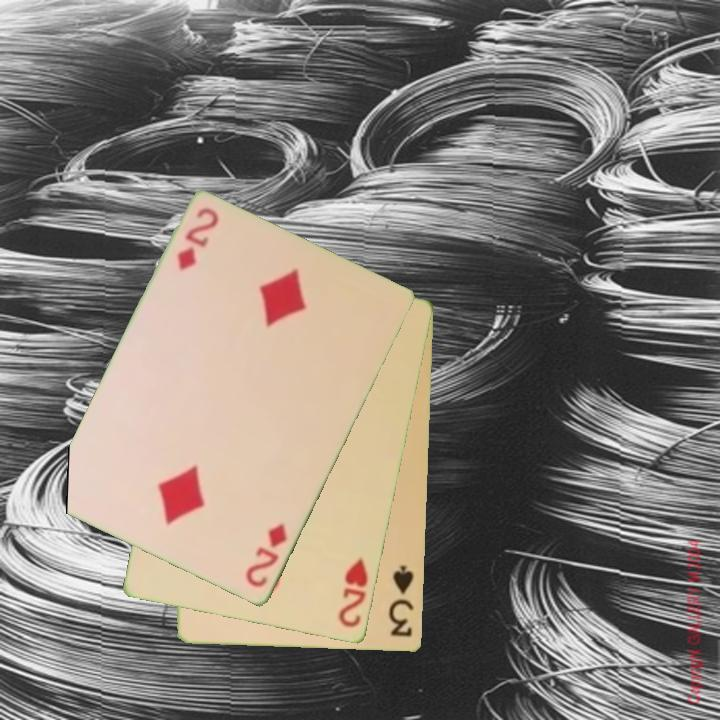2d: (173, 204, 222, 274), (242, 520, 290, 591)
2h: (335, 554, 371, 631)
3s: (385, 562, 417, 640)
